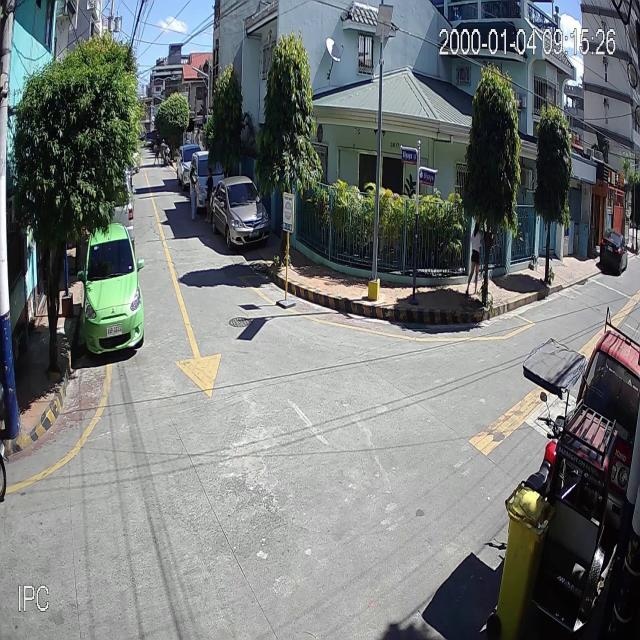standing: (188, 166, 201, 221)
walking: (465, 220, 482, 298), (204, 166, 215, 223), (159, 139, 166, 165), (154, 141, 160, 166)
